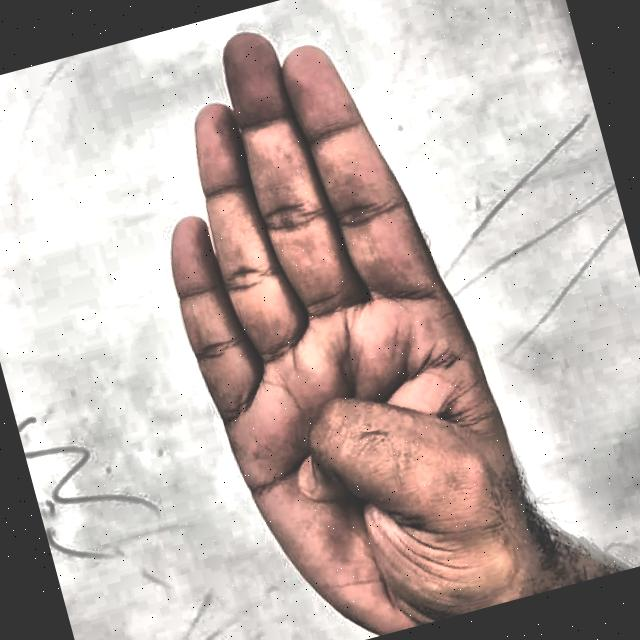Ba: (62, 0, 613, 640)
